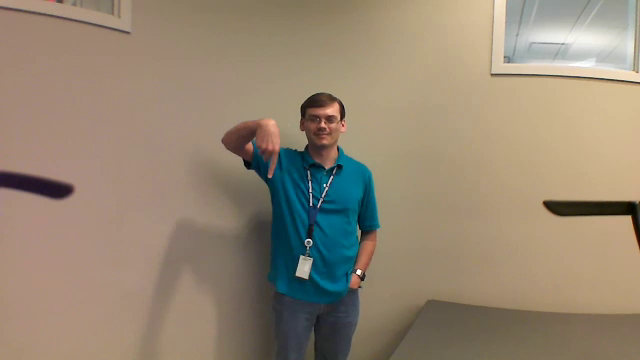down: (247, 112, 287, 185)
